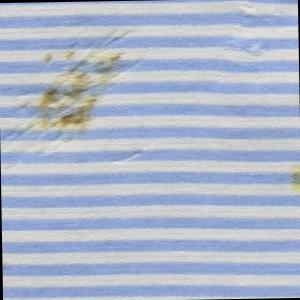Damage: (1, 21, 150, 174), (218, 1, 292, 70)
Oil Stain: (19, 45, 128, 145)
Stain: (289, 161, 300, 199)
